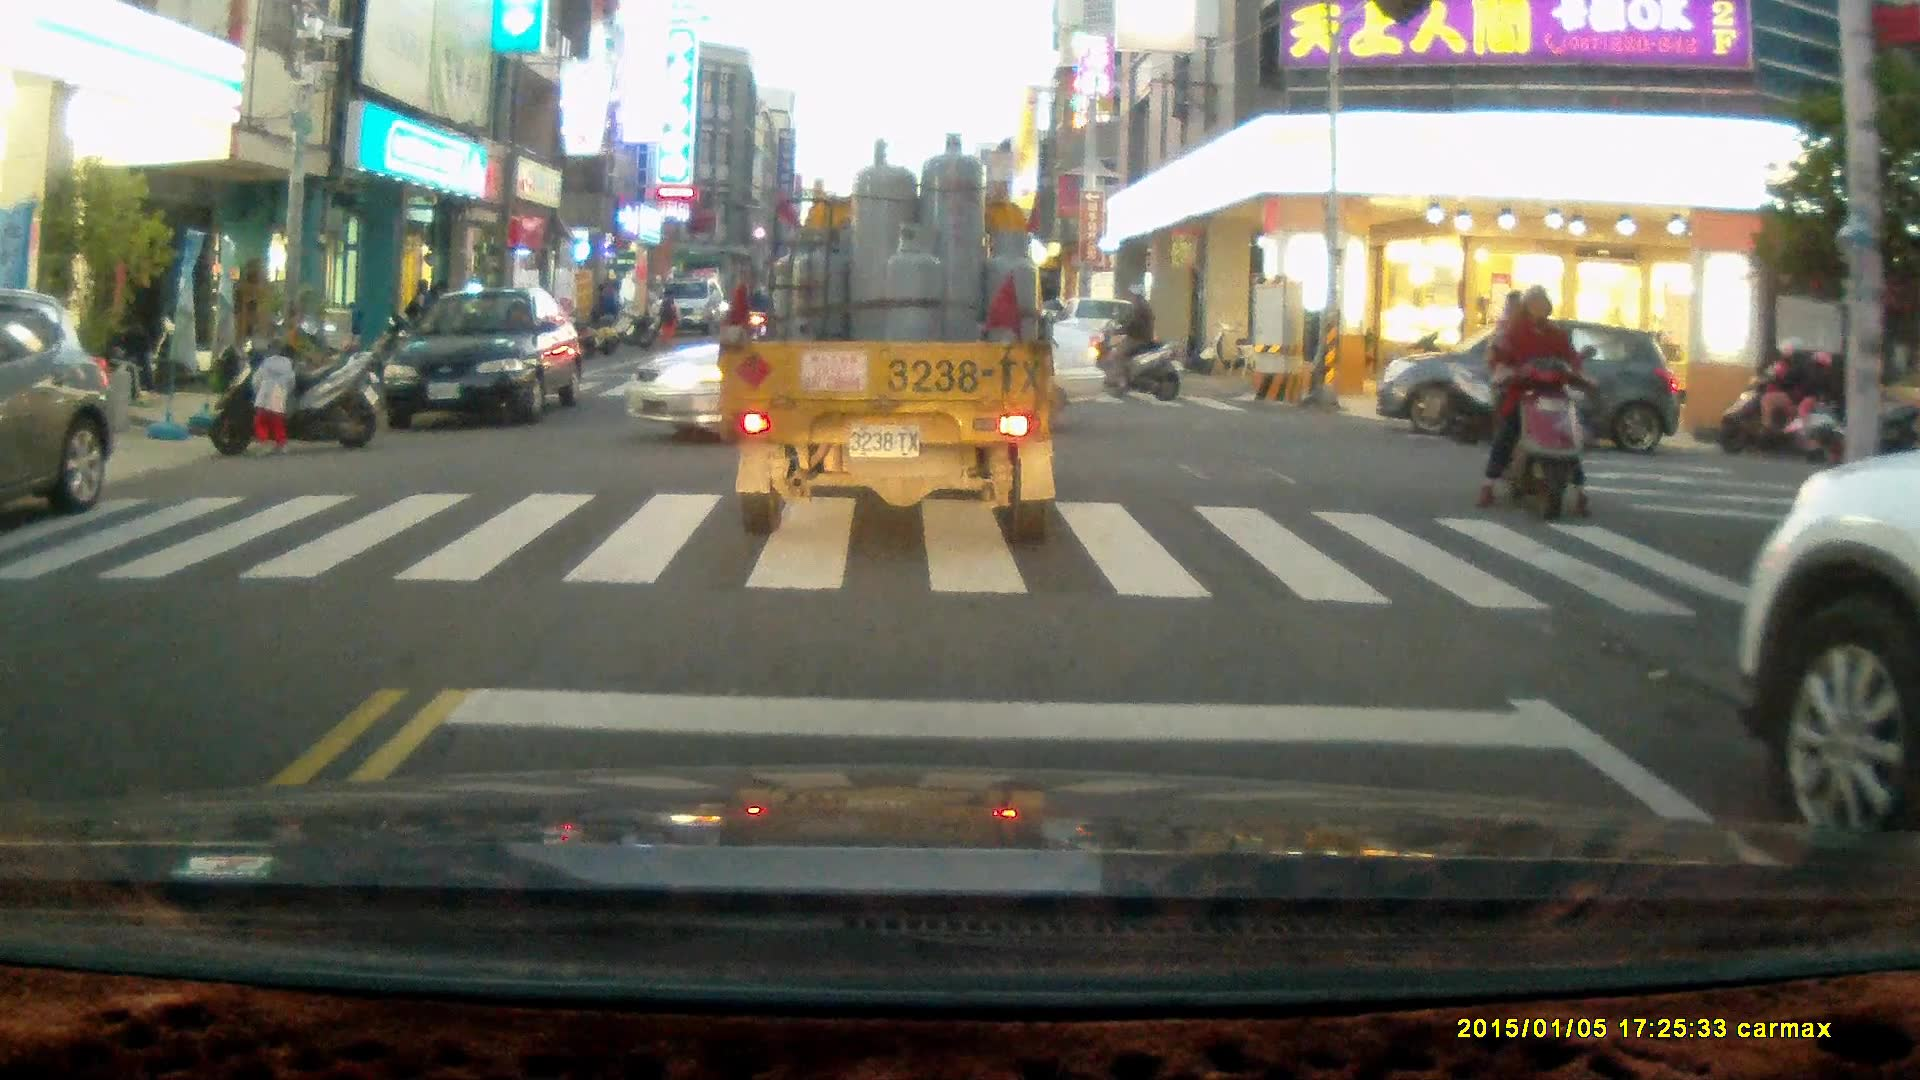pedestrian: (250, 339, 300, 458), (597, 278, 624, 340), (658, 285, 682, 343)
rider: (1475, 285, 1593, 522), (1715, 334, 1834, 464), (1088, 283, 1183, 404)
vehicle: (716, 130, 1059, 536), (1730, 451, 1920, 858), (626, 285, 1100, 439), (1372, 321, 1676, 461), (375, 288, 585, 429), (651, 278, 728, 334)
